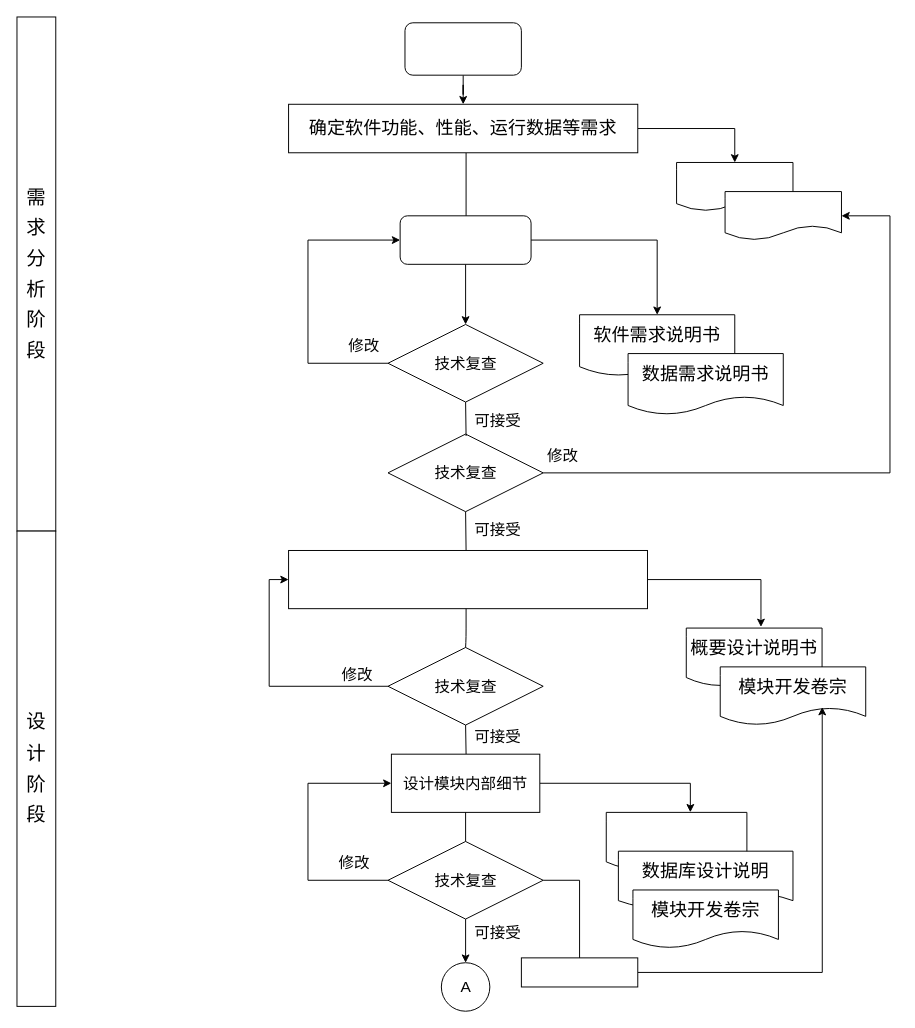
Some shapes in this 915 by 1028 pixel diagram are drawn without their labels. Here are the shapes that lost their labels. From the top down, the box of each, then its label:
(404, 22, 521, 75): 原有项目计划
(676, 162, 793, 211): 用户手册
(724, 191, 841, 240): 开发计划
(399, 215, 531, 264): 需修改开发计划
(288, 550, 647, 609): 定义软件结构与全局数据结构，确定模 块接口，规定设计限制，制定测试计划
(605, 811, 747, 871): 详细设计说明书
(520, 957, 638, 987): 测试计划复审
